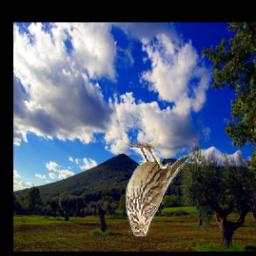Sparrow: (126, 143, 188, 237)
